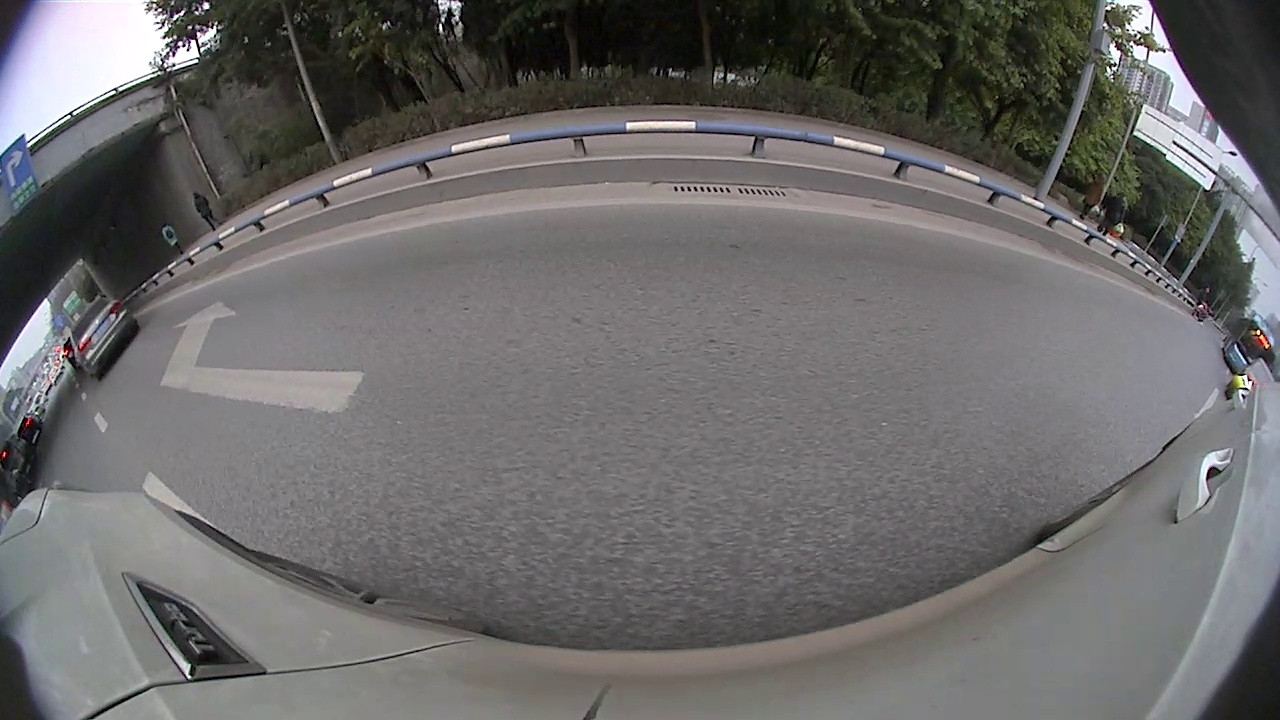bus: (1221, 312, 1277, 376)
car: (66, 292, 143, 381), (1222, 355, 1277, 406)
person: (1107, 192, 1126, 240), (1085, 176, 1103, 219), (193, 191, 210, 231)
